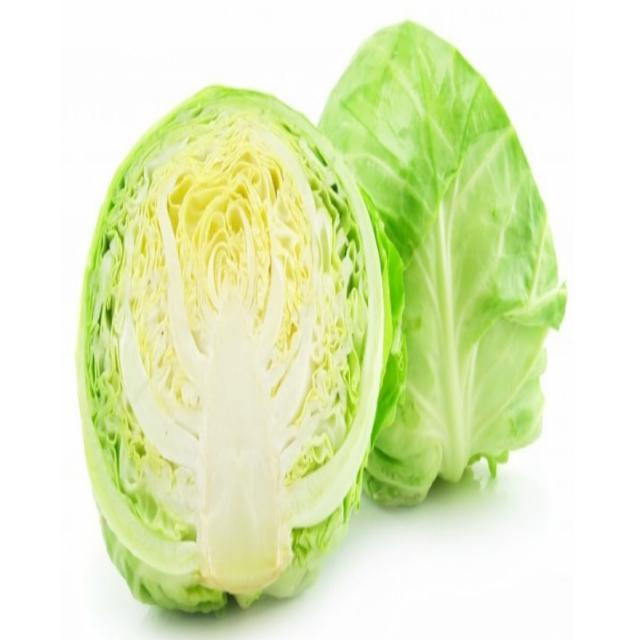Organik: (73, 71, 385, 629), (317, 19, 566, 510)
